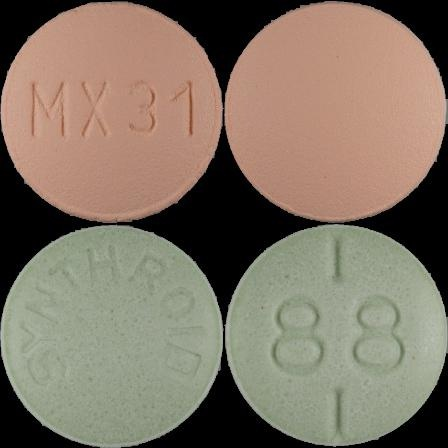69189-6231: (0, 0, 224, 224)
